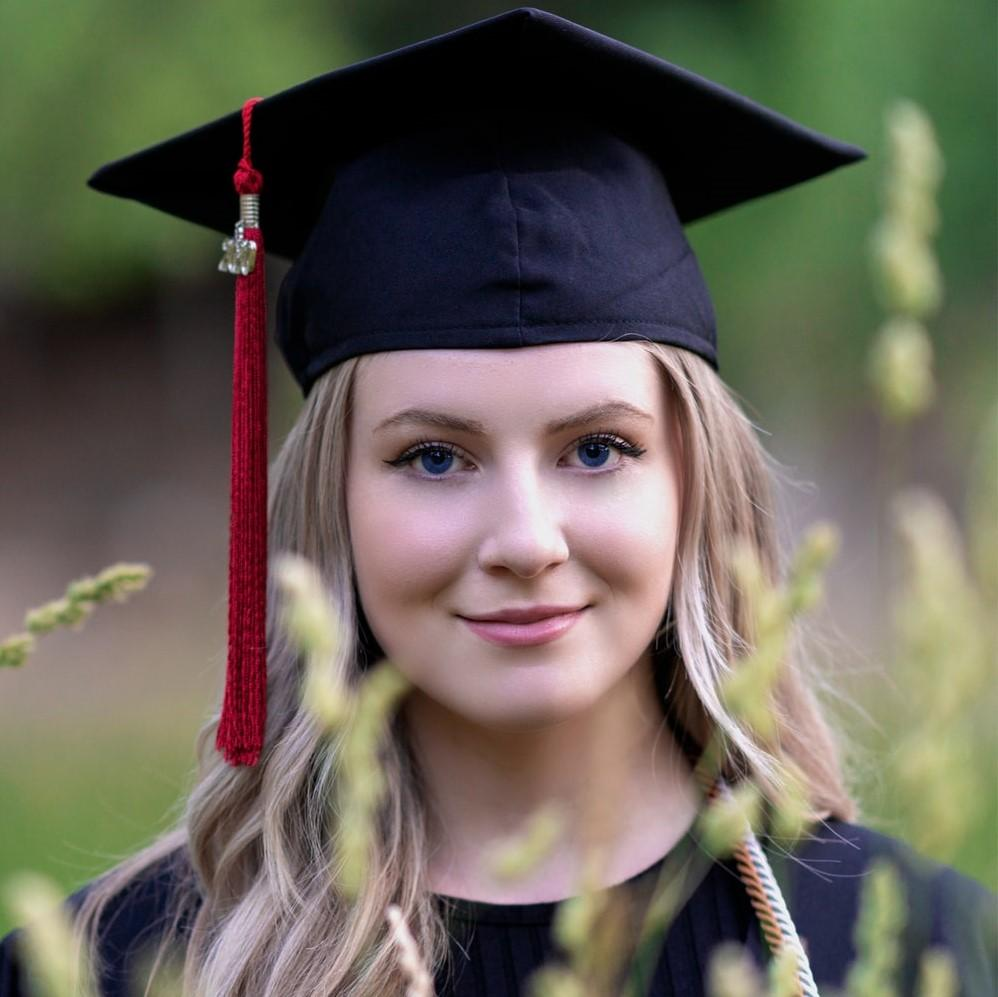cap: (75, 0, 888, 385)
